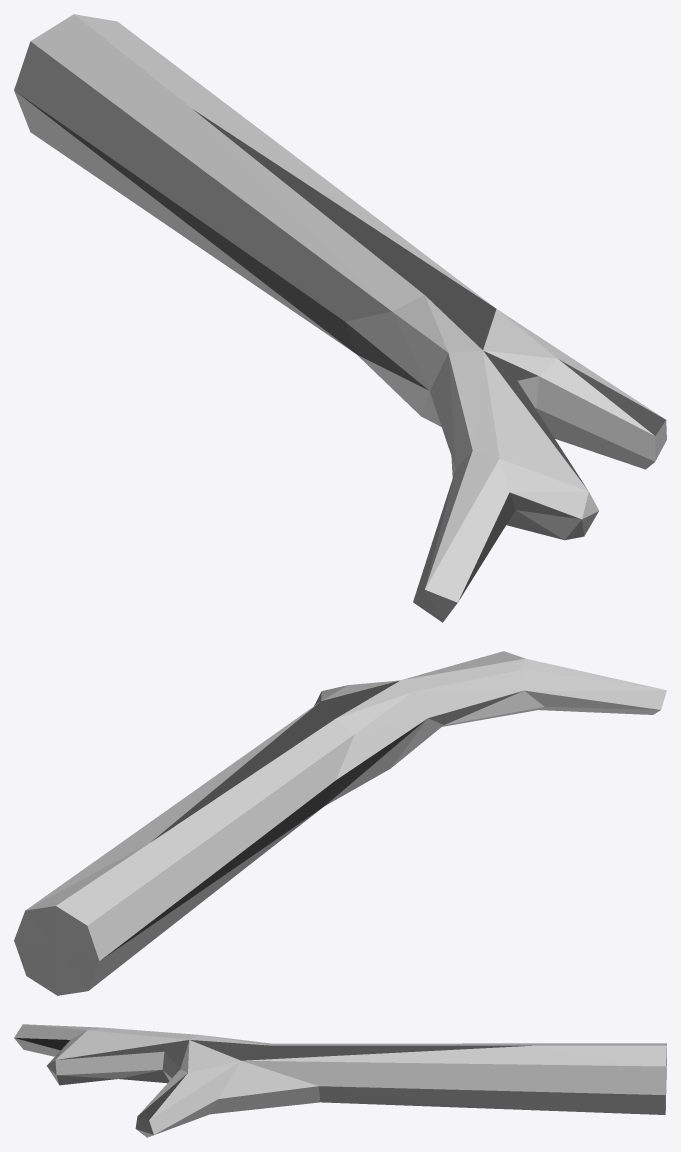
The model's file is mesh_branch_birch_03.fbx.
3 renders of one model, top to bottom at view 1: azimuth 30°, elevation 25°; view 2: azimuth 150°, elevation 25°; view 3: azimuth 270°, elevation 25°, orthographic. The views are drawn at different scales.
Parts seen in each view (by area): view 1: mesh_branch_birch_03; view 2: mesh_branch_birch_03; view 3: mesh_branch_birch_03.
Boxes of the visible parts, left/top/right/bottom form: mesh_branch_birch_03: left=14, top=14, right=666, bottom=622; mesh_branch_birch_03: left=14, top=651, right=666, bottom=995; mesh_branch_birch_03: left=14, top=1024, right=666, bottom=1137.
Bounding box in the file's own units: 0.2991 × 0.0984 × 0.8566.
